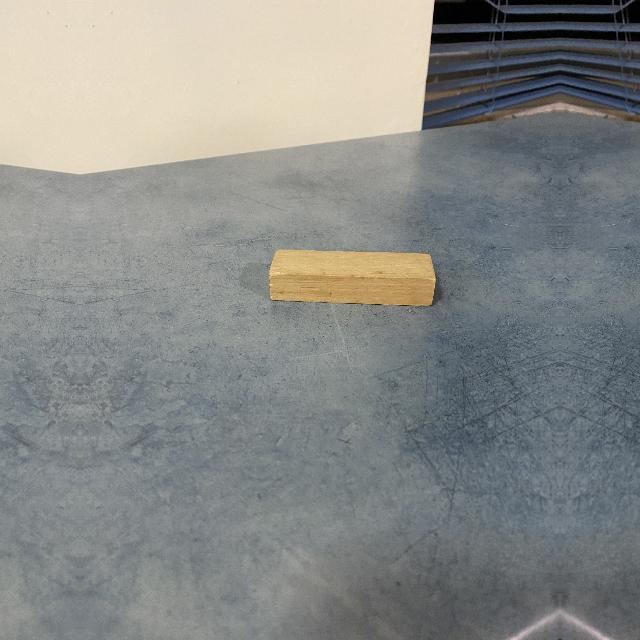jenga: (264, 249, 434, 301)
